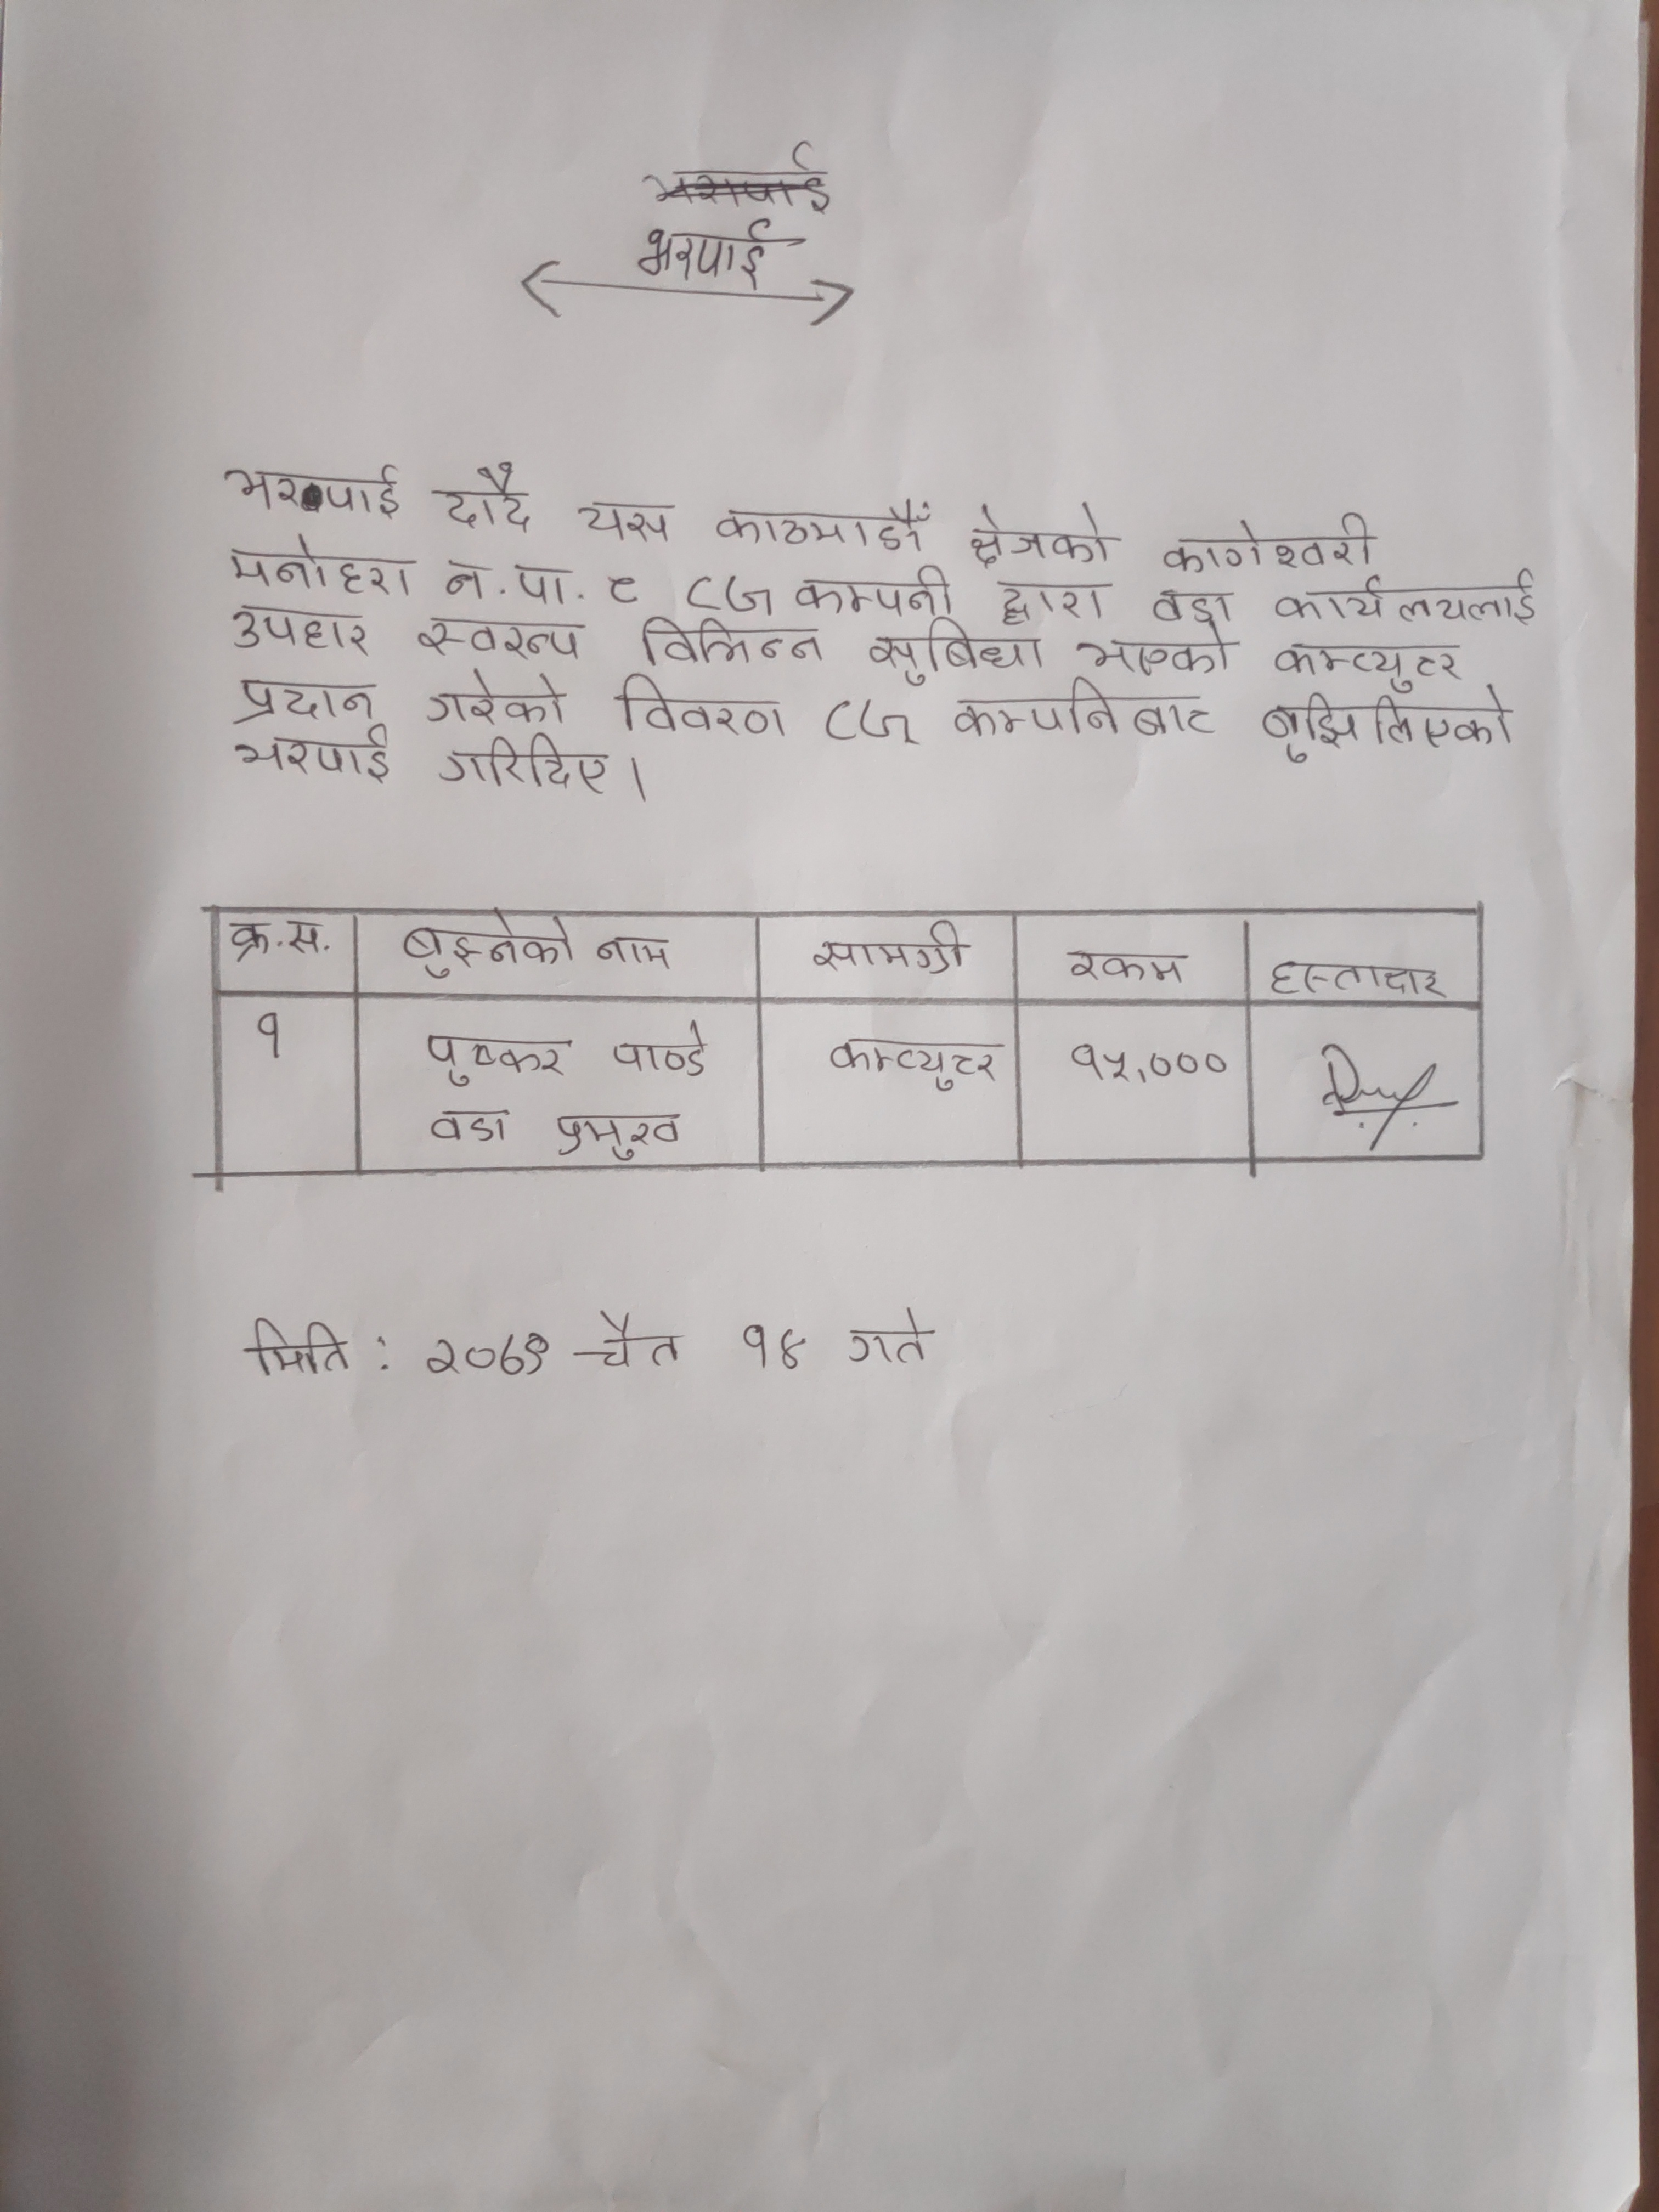text: (1258, 688, 1518, 766), (1270, 571, 1554, 631), (951, 681, 1215, 742), (221, 531, 420, 599), (714, 495, 927, 556), (636, 608, 831, 671), (817, 1026, 1002, 1092), (228, 458, 408, 526), (397, 909, 577, 977), (1161, 517, 1382, 571), (868, 622, 1053, 685), (610, 674, 789, 738), (439, 735, 617, 798), (225, 726, 401, 787), (964, 503, 1114, 571), (638, 216, 775, 287), (1274, 644, 1460, 695), (1079, 620, 1232, 681), (1065, 1036, 1232, 1092), (408, 613, 586, 665), (1269, 954, 1452, 1005), (423, 1028, 573, 1089), (425, 667, 568, 730), (789, 568, 960, 620), (805, 921, 969, 975), (230, 599, 369, 660), (228, 672, 380, 728), (423, 1324, 558, 1385), (439, 552, 573, 611), (568, 1308, 694, 1371), (608, 1015, 716, 1087), (437, 462, 542, 533), (242, 1318, 361, 1379), (549, 1109, 683, 1160), (988, 577, 1112, 631), (1056, 942, 1199, 988), (570, 491, 676, 550), (840, 1305, 934, 1367), (227, 916, 336, 963), (1147, 583, 1236, 631), (591, 930, 683, 974), (425, 1103, 509, 1148), (741, 1320, 816, 1371), (249, 1007, 289, 1059), (606, 566, 643, 610)
